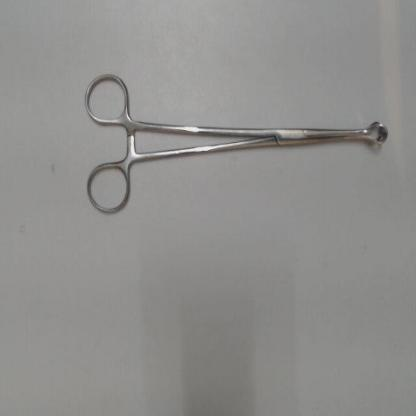8 Babcock Tissue Forceps: (81, 64, 397, 218)
